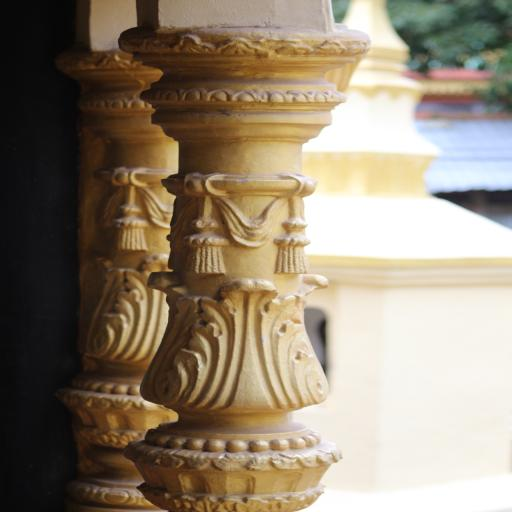la: (149, 283, 329, 423), (74, 260, 174, 366)
